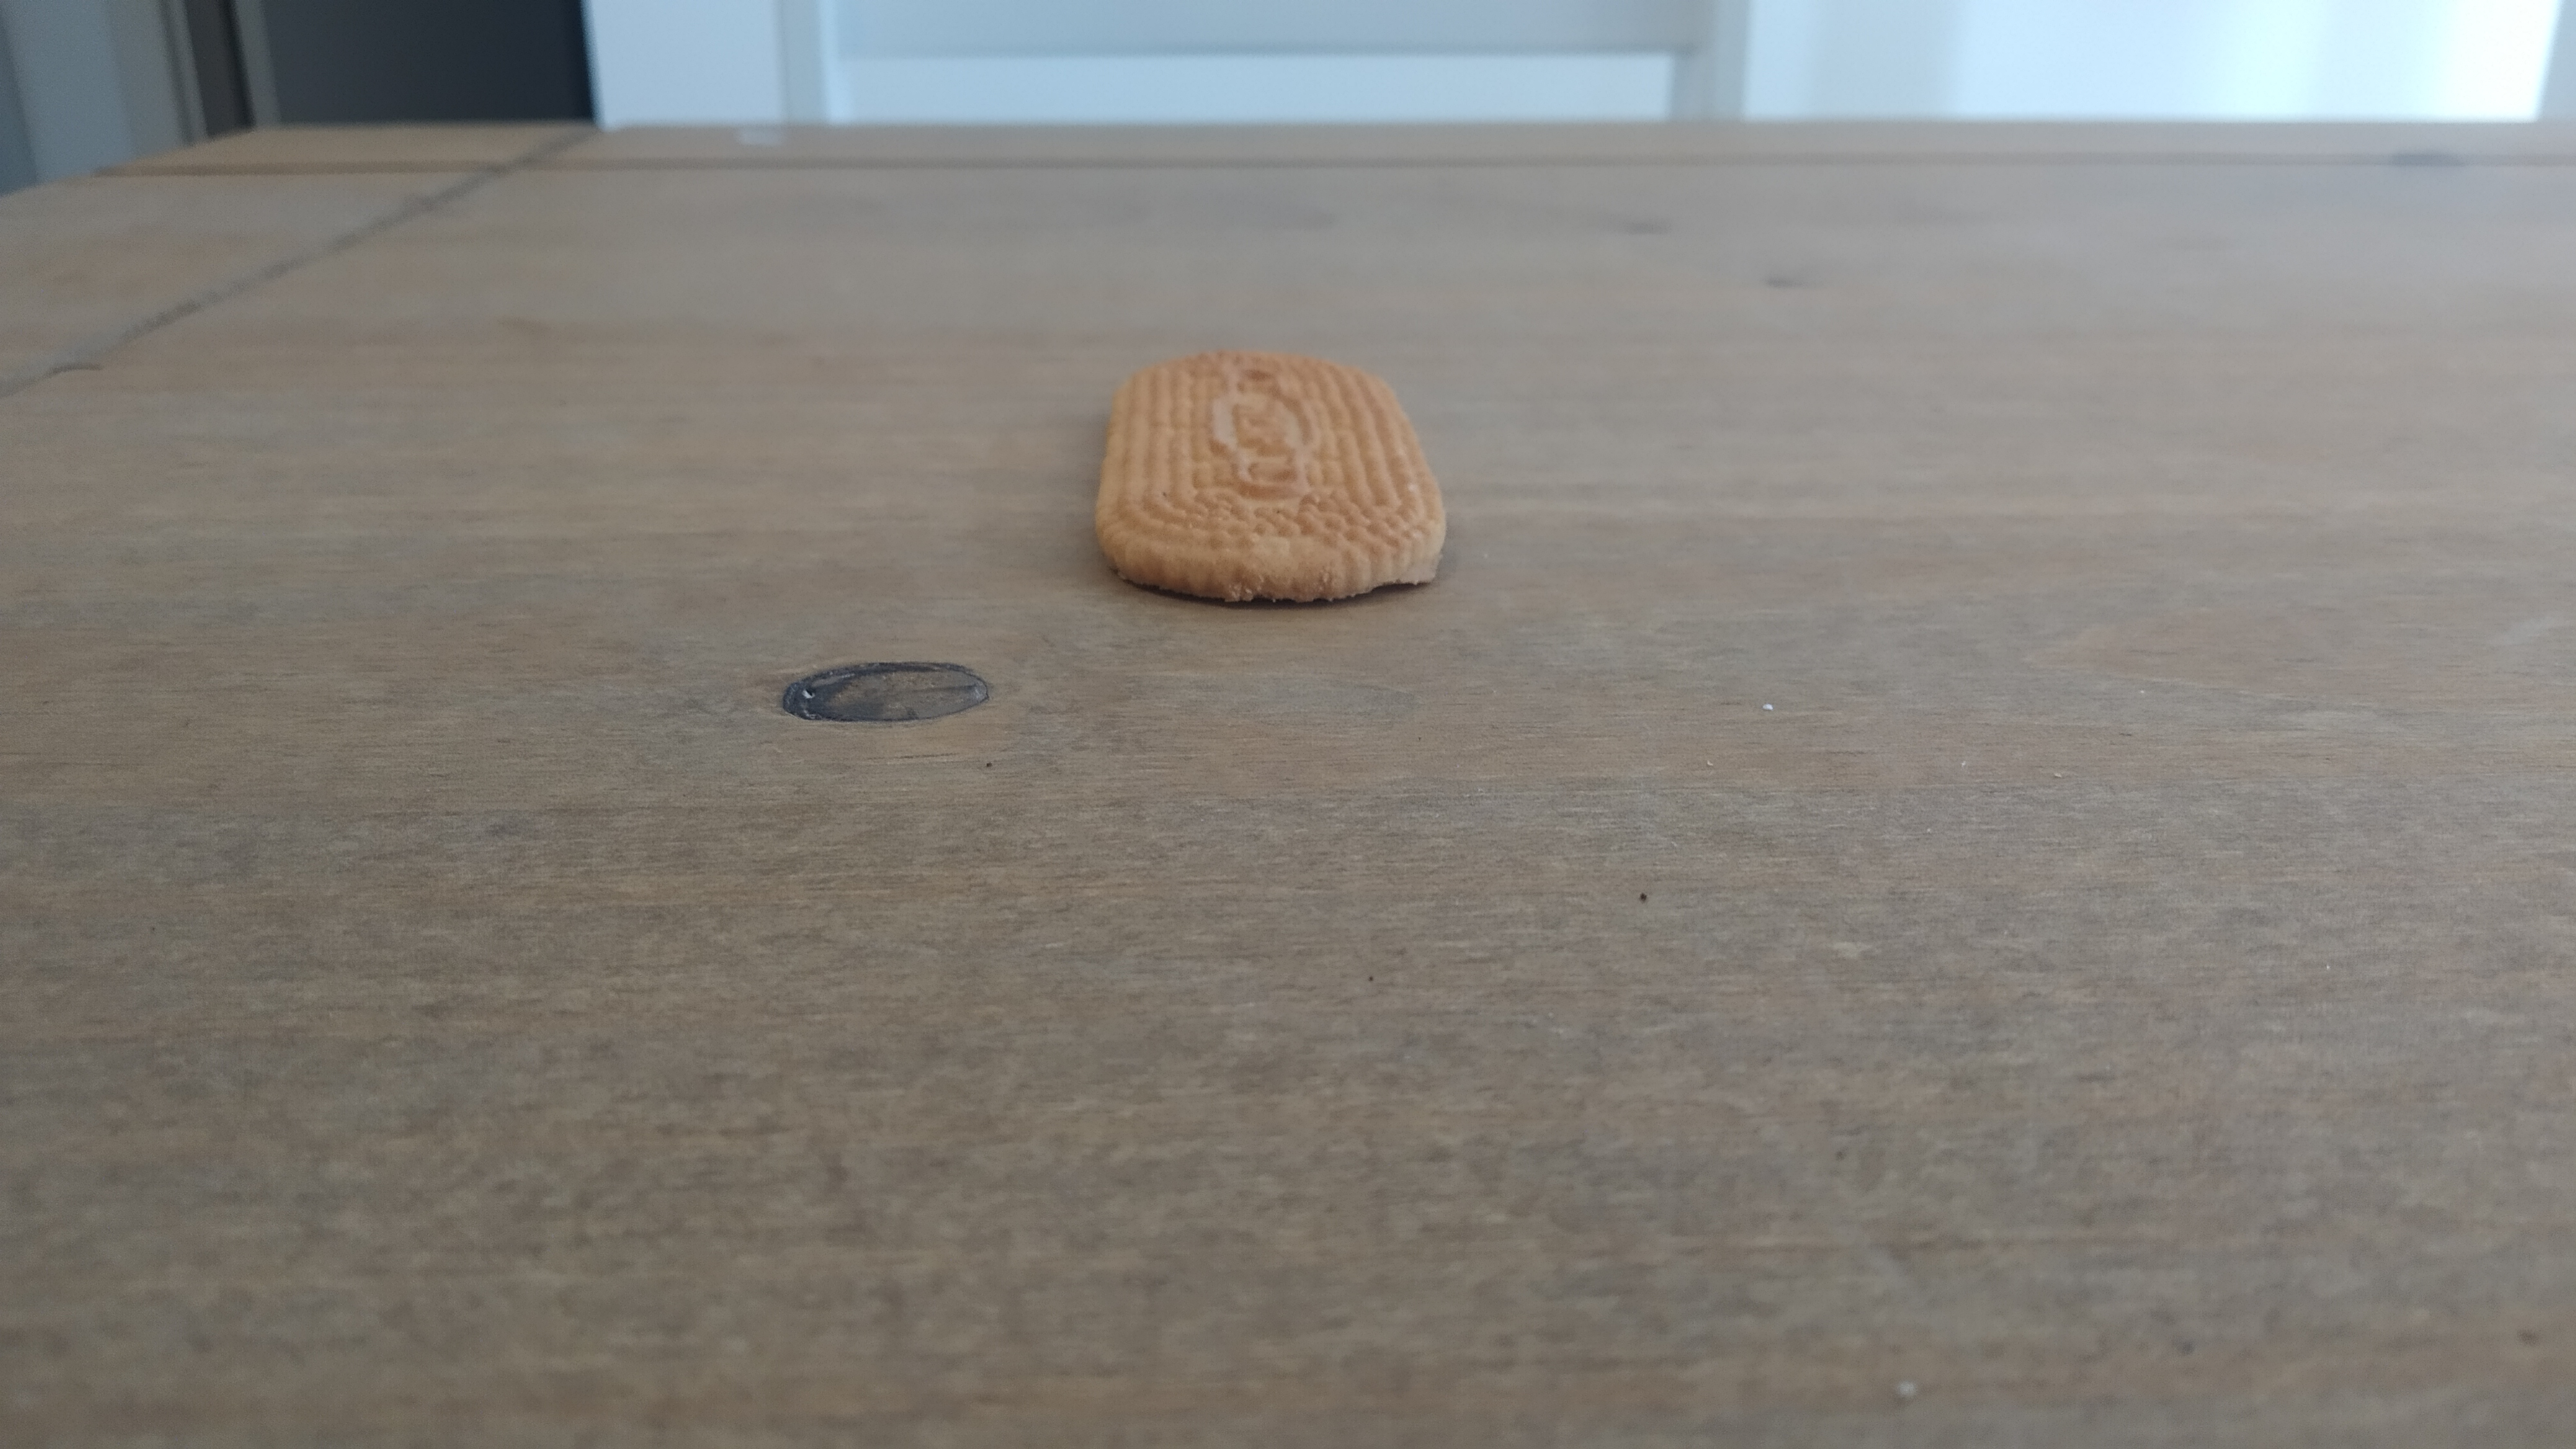solar: (1097, 350, 1447, 602)
